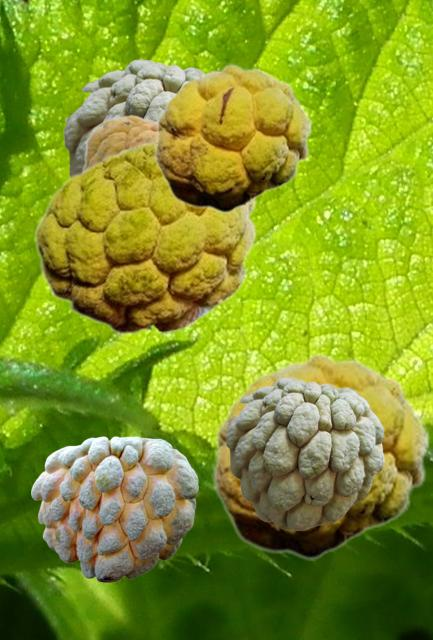atis: (211, 352, 429, 559), (33, 139, 256, 334), (31, 436, 197, 581), (225, 377, 383, 529), (153, 63, 311, 212), (63, 59, 204, 174), (82, 114, 155, 169)
